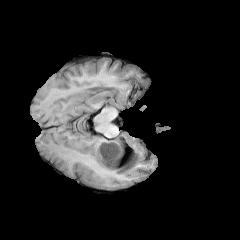glioma: (94, 136, 143, 174)
